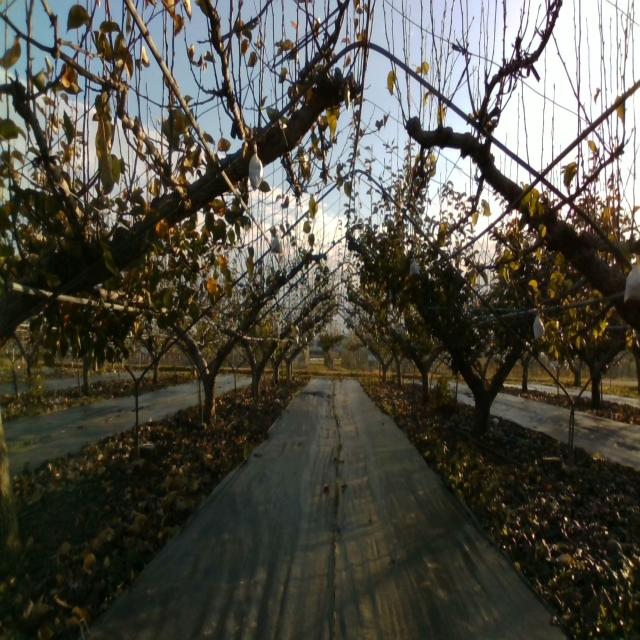pearbags: (248, 143, 264, 192), (623, 262, 640, 304), (532, 313, 545, 341), (270, 234, 284, 253)
